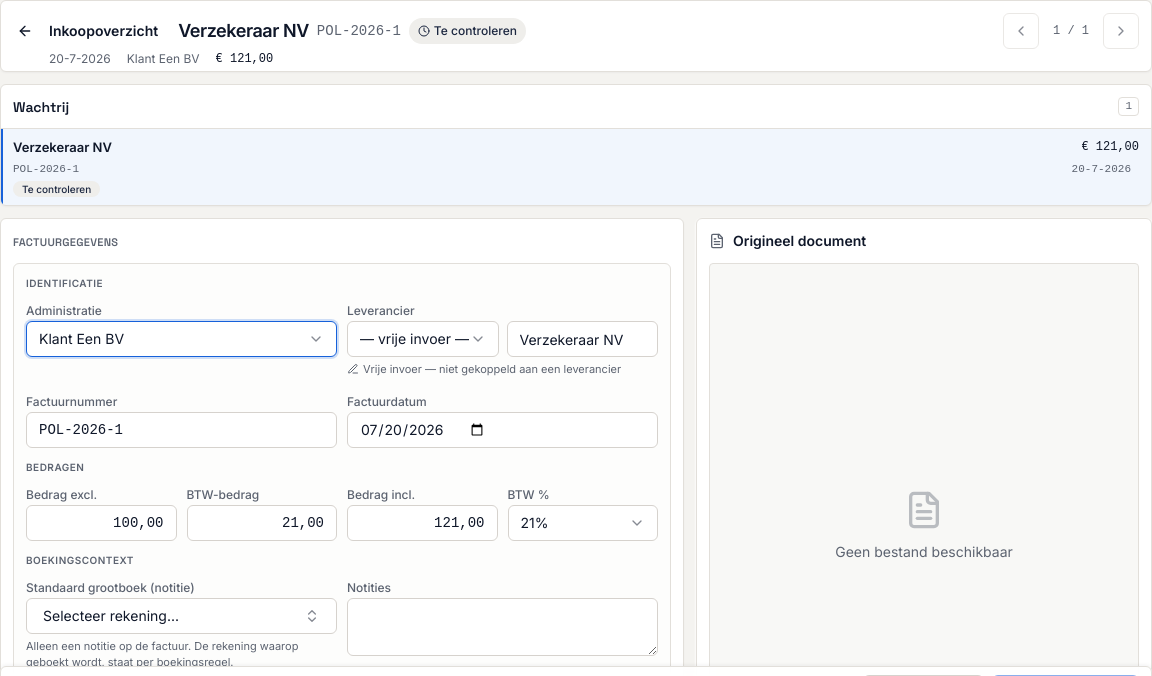
Test case: D-02 — administratie wijzigen vraagt een expliciete, bevestigde keuze › na bevestigen gaat de nieuwe administratie bij Opslaan mee
Later steps or results of the test are not shown.
Expected: the field named "Leveranciersnaam" is shown, [506, 321, 658, 357]
Press ArrowDown in the dropdown named "Administratie", box [26, 321, 337, 357]
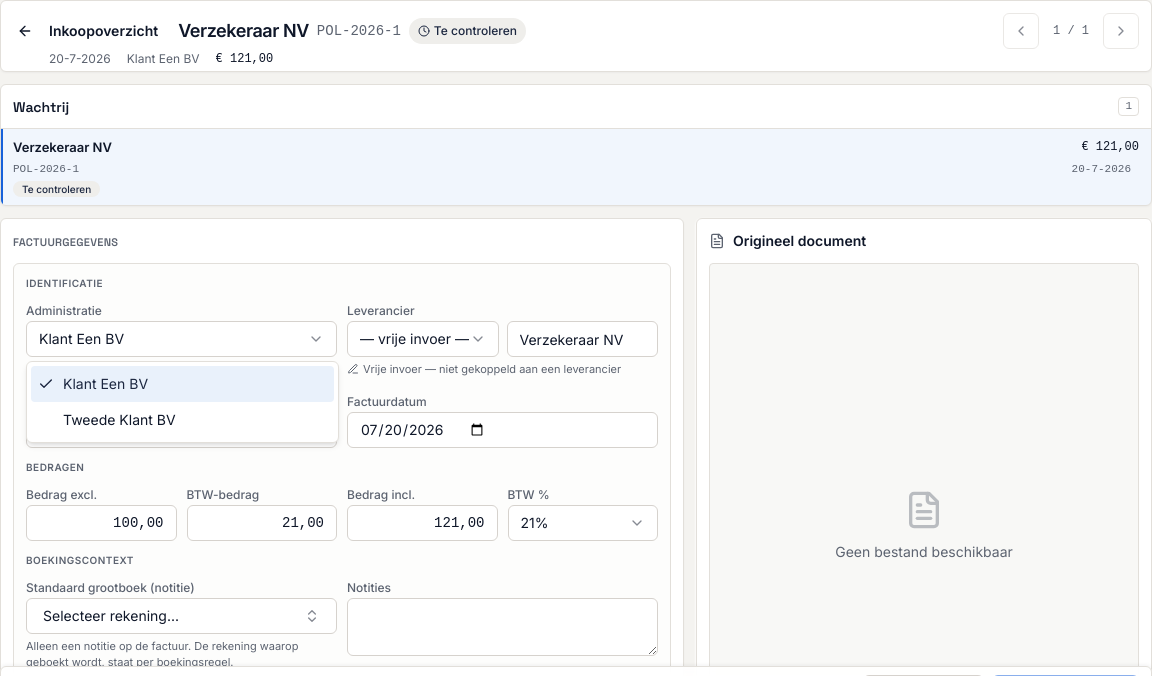
Click the option "Tweede Klant BV" at [119, 420], box [63, 411, 176, 428]
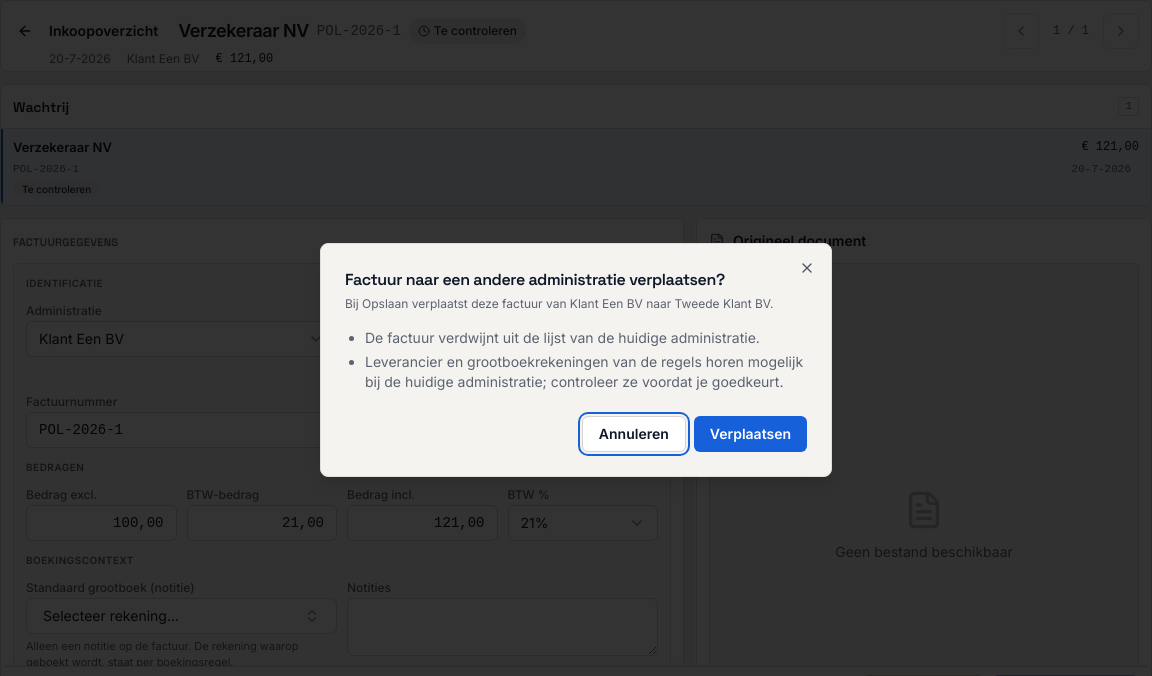
Click the button "Verplaatsen" at [750, 434], box [694, 416, 807, 452]
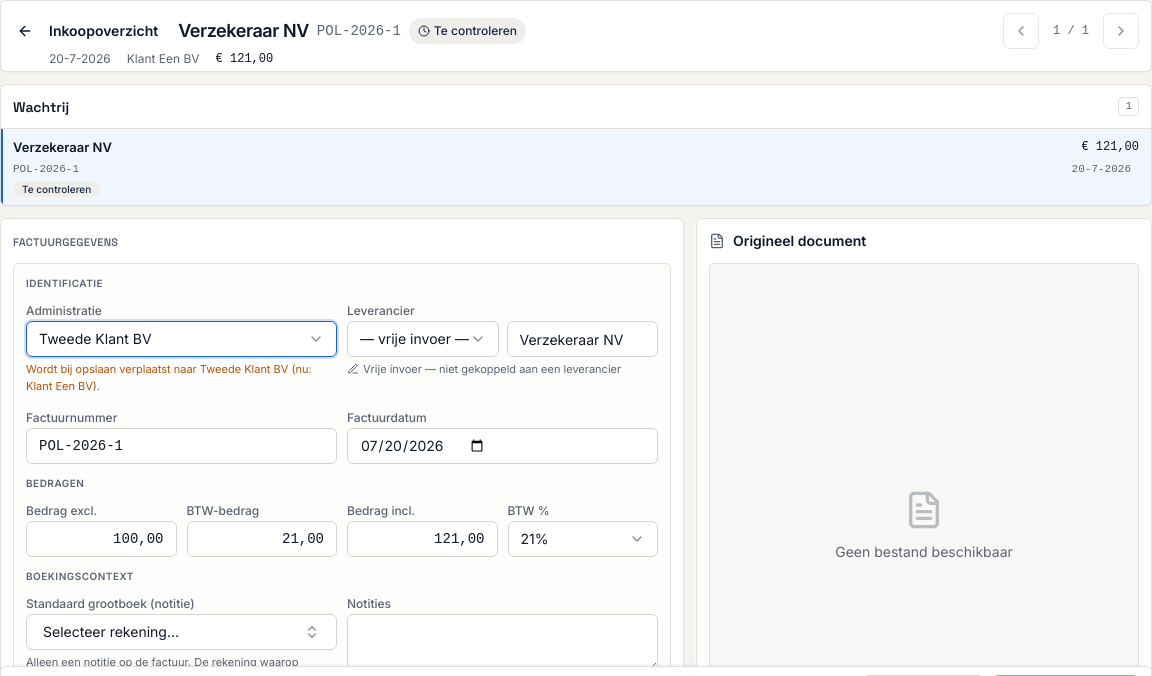
Now the dropdown named "Administratie" reads "Tweede Klant BV", box [26, 321, 337, 357]
Now the text with test id "client-move-pending" shows "Tweede Klant BV", box [200, 362, 288, 376]
